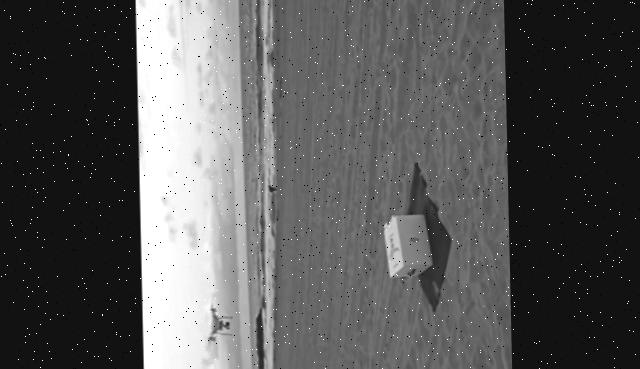drone: (203, 304, 231, 344)
